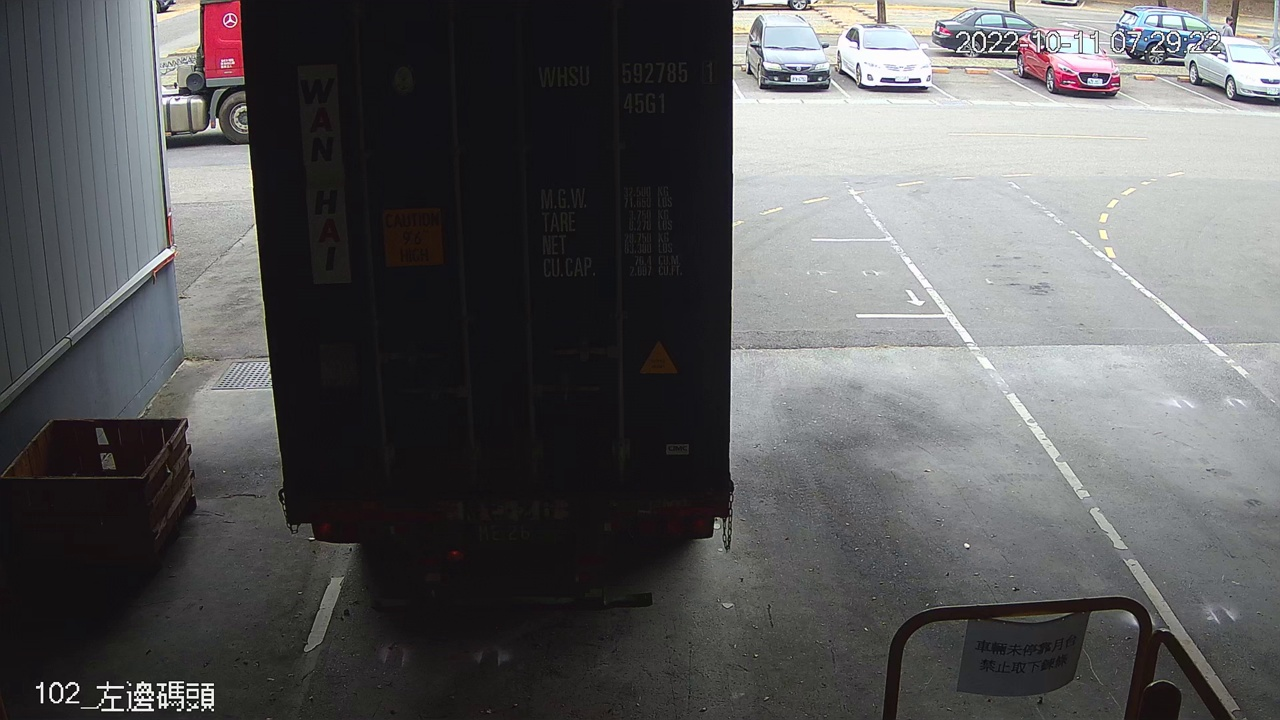container: (530, 55, 725, 123)
